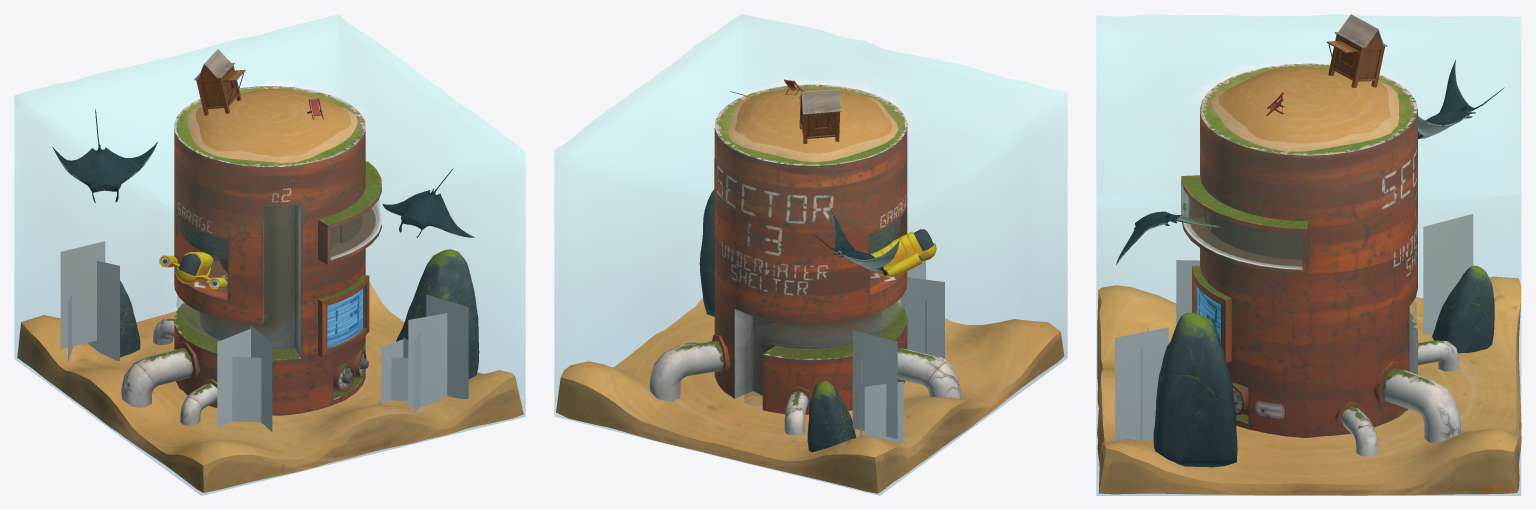
3 renders of one model, left to right at view 1: azimuth 30°, elevation 25°; view 2: azimuth 150°, elevation 25°; view 3: azimuth 270°, elevation 25°, orthographic. The views are drawn at different scales.
Visible parts, largest first — view 1: Cube, Circle, Cube_001.001, Circle.006, Plane, Plane.001, Plane.004, PM3D_Cube3D1.001, Rausku_mesh.004, Rausku_mesh.002, Plane.005, Circle.001 (+1 smaller); view 2: Cube, Circle, Cube_001.001, Circle.006, Plane, Plane.004, PM3D_Cube3D1.004, Circle.001, PM3D_Cube3D1.001, Rausku_mesh.004; view 3: Cube, Circle, Cube_001.001, Circle.006, PM3D_Cube3D1.001, Plane.001, Plane, PM3D_Cube3D1.004, Rausku_mesh.004, Rausku_mesh.002, Plane.004.
Boxes of the visible parts, left/top/right/bottom form: Cube: left=14, top=14, right=525, bottom=495; Circle: left=121, top=86, right=381, bottom=426; Cube_001.001: left=17, top=273, right=523, bottom=492; Circle.006: left=187, top=49, right=357, bottom=162; Plane: left=60, top=241, right=119, bottom=361; Plane.001: left=408, top=294, right=468, bottom=411; Plane.004: left=217, top=325, right=272, bottom=431; PM3D_Cube3D1.001: left=396, top=249, right=479, bottom=378; Rausku_mesh.004: left=52, top=109, right=157, bottom=202; Rausku_mesh.002: left=382, top=168, right=474, bottom=237; Plane.005: left=381, top=337, right=408, bottom=403; Circle.001: left=159, top=252, right=227, bottom=289; Cube: left=554, top=14, right=1067, bottom=495; Circle: left=650, top=84, right=960, bottom=435; Cube_001.001: left=556, top=297, right=1064, bottom=493; Circle.006: left=728, top=79, right=898, bottom=162; Plane: left=852, top=330, right=903, bottom=442; Plane.004: left=900, top=260, right=944, bottom=358; PM3D_Cube3D1.004: left=807, top=380, right=856, bottom=452; Circle.001: left=871, top=229, right=936, bottom=277; PM3D_Cube3D1.001: left=699, top=189, right=714, bottom=316; Rausku_mesh.004: left=813, top=209, right=899, bottom=275; Cube: left=1096, top=14, right=1520, bottom=495; Circle: left=1181, top=63, right=1460, bottom=456; Cube_001.001: left=1097, top=276, right=1521, bottom=495; Circle.006: left=1211, top=14, right=1399, bottom=151; PM3D_Cube3D1.001: left=1153, top=312, right=1237, bottom=467; Plane.001: left=1115, top=327, right=1168, bottom=440; Plane: left=1423, top=214, right=1473, bottom=334; PM3D_Cube3D1.004: left=1432, top=265, right=1494, bottom=353; Rausku_mesh.004: left=1418, top=60, right=1504, bottom=139; Rausku_mesh.002: left=1116, top=211, right=1222, bottom=264; Plane.004: left=1176, top=260, right=1199, bottom=324.
Bounding box in the file's own units: 2562 × 2439 × 2560.
